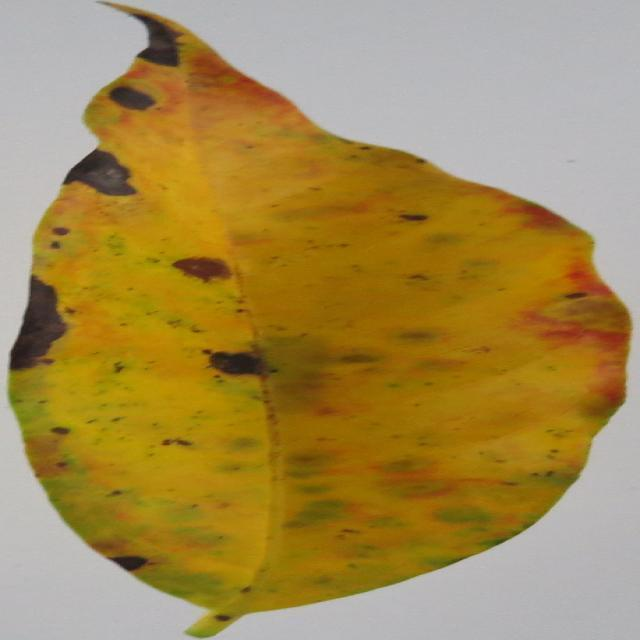DeficienciaNutricional-Fosforo: (12, 4, 628, 636)
